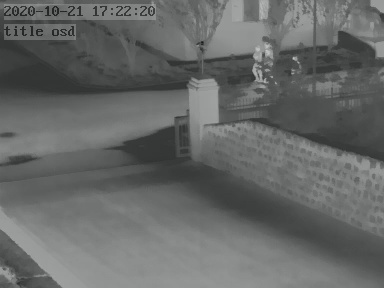person: (252, 45, 265, 85)
